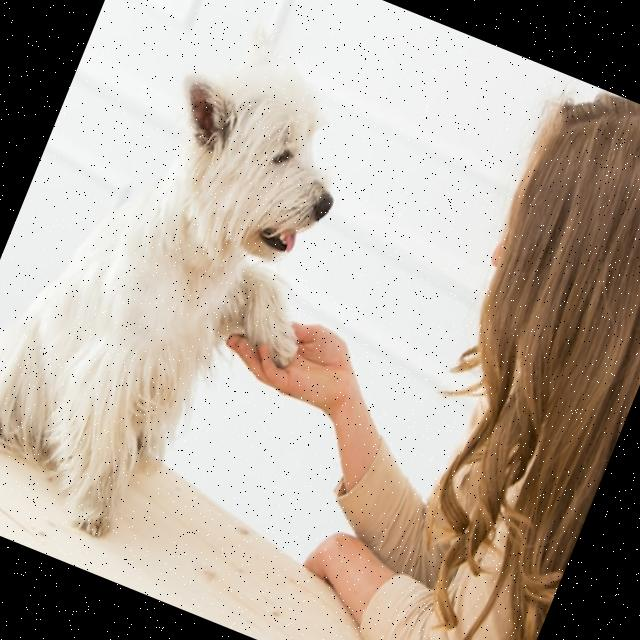Dog: (0, 0, 397, 581)
Person: (126, 0, 640, 640)
